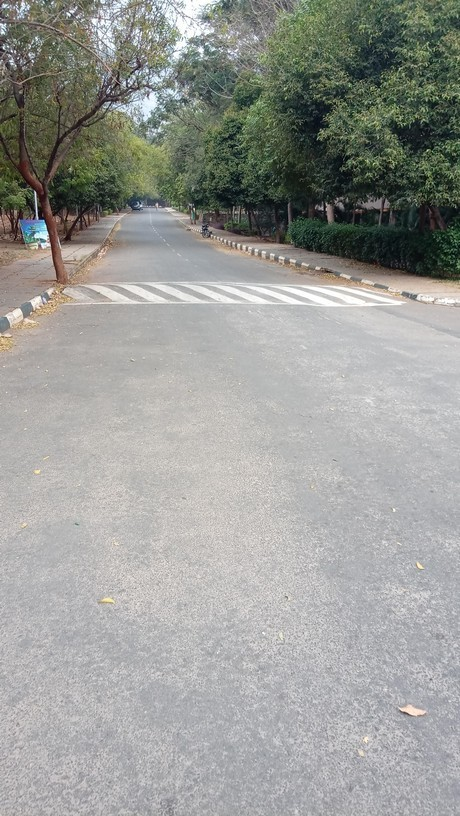bump: (51, 280, 412, 308)
